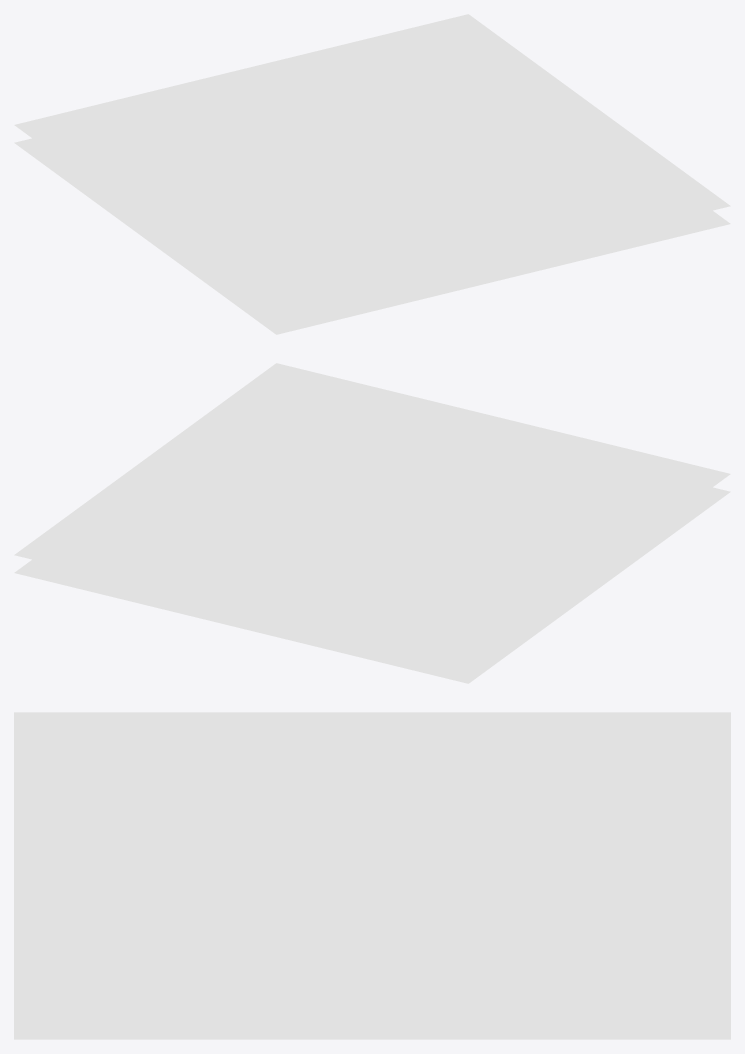
Rendered from ground.lake.bottom.glb.
3 views of the same model, one above another, from view 1: azimuth 30°, elevation 25°; view 2: azimuth 150°, elevation 25°; view 3: azimuth 270°, elevation 25° (orthographic). The views are drawn at different scales.
Parts seen in each view (by area): view 1: ground.lake.water.bottom, ground.lake.bottom; view 2: ground.lake.water.bottom, ground.lake.bottom; view 3: ground.lake.water.bottom, ground.lake.bottom.
Boxes of the visible parts, bbox=[...] form: ground.lake.water.bottom: bbox=[14, 14, 730, 316]; ground.lake.bottom: bbox=[14, 138, 730, 334]; ground.lake.water.bottom: bbox=[14, 363, 730, 665]; ground.lake.bottom: bbox=[14, 487, 730, 683]; ground.lake.water.bottom: bbox=[14, 712, 730, 1015]; ground.lake.bottom: bbox=[14, 1015, 730, 1039].
Size of what is drawn, in the model's own units: 4 by 0.15 by 4.
1 material, 1 textured.
